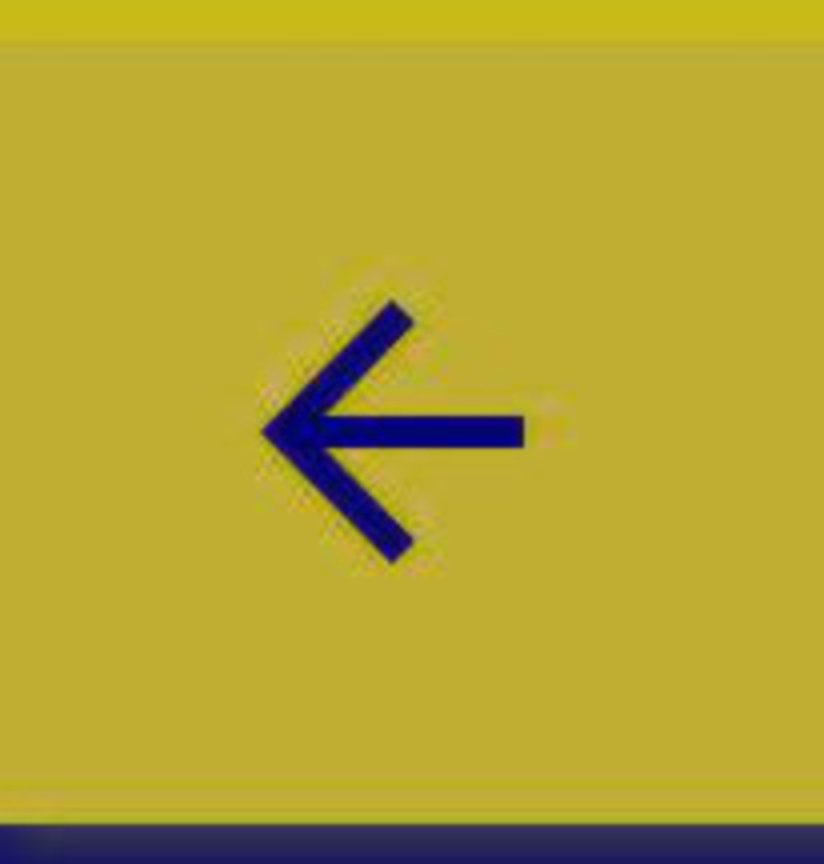ImgButton: (1, 1, 823, 863)
